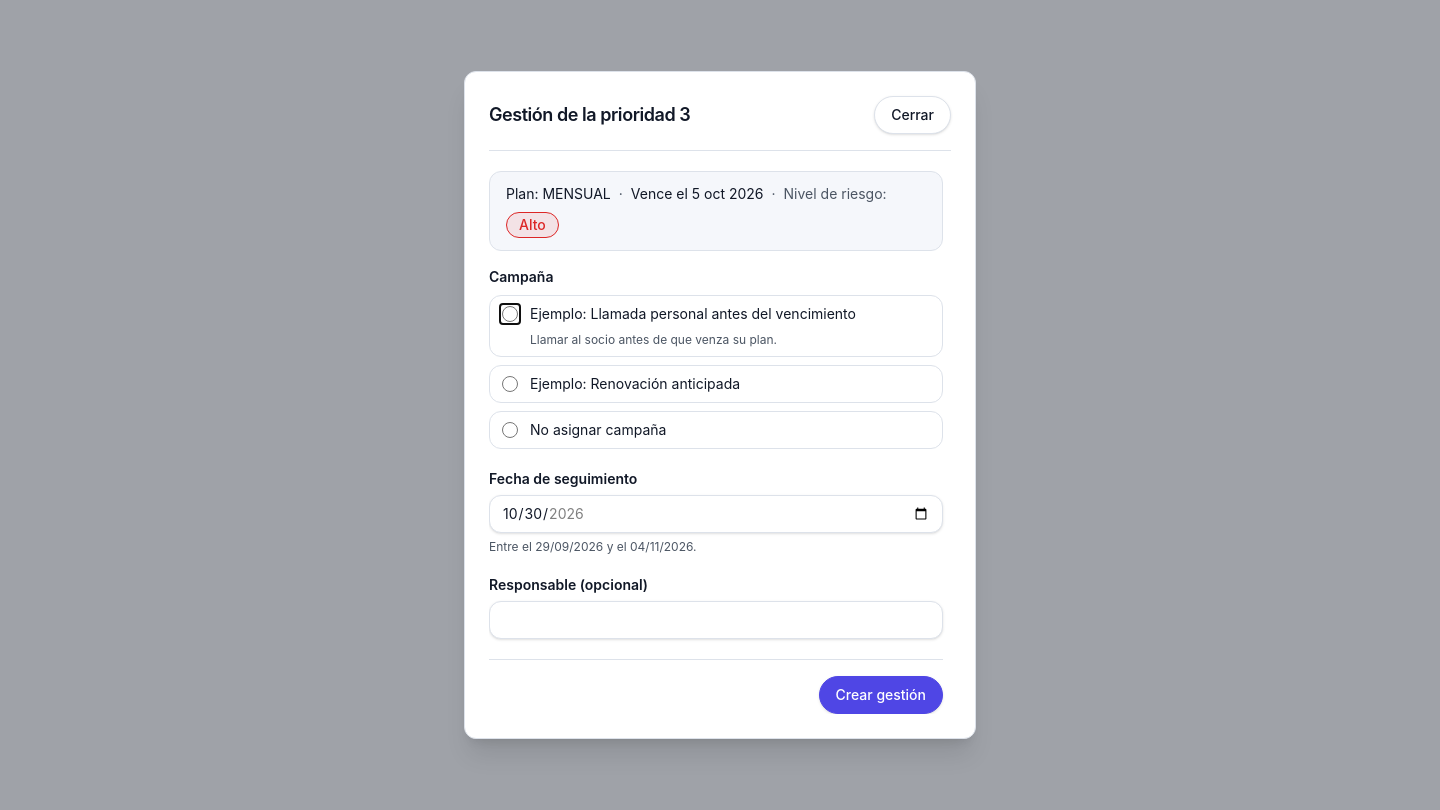
Scenario: FormularioGestion › parte 1: crear la gestion › fecha 2026-11-05 → mensaje con el rango, enlazado al campo, sin enviar
The image size is (1440, 810).
Note: Con campaña: sin campaña el campo de fecha no existe (R-010).
Click the radio button labelled "Ejemplo: Renovación anticipada". click: x=510, y=384
box: left=502, top=376, right=518, bottom=392
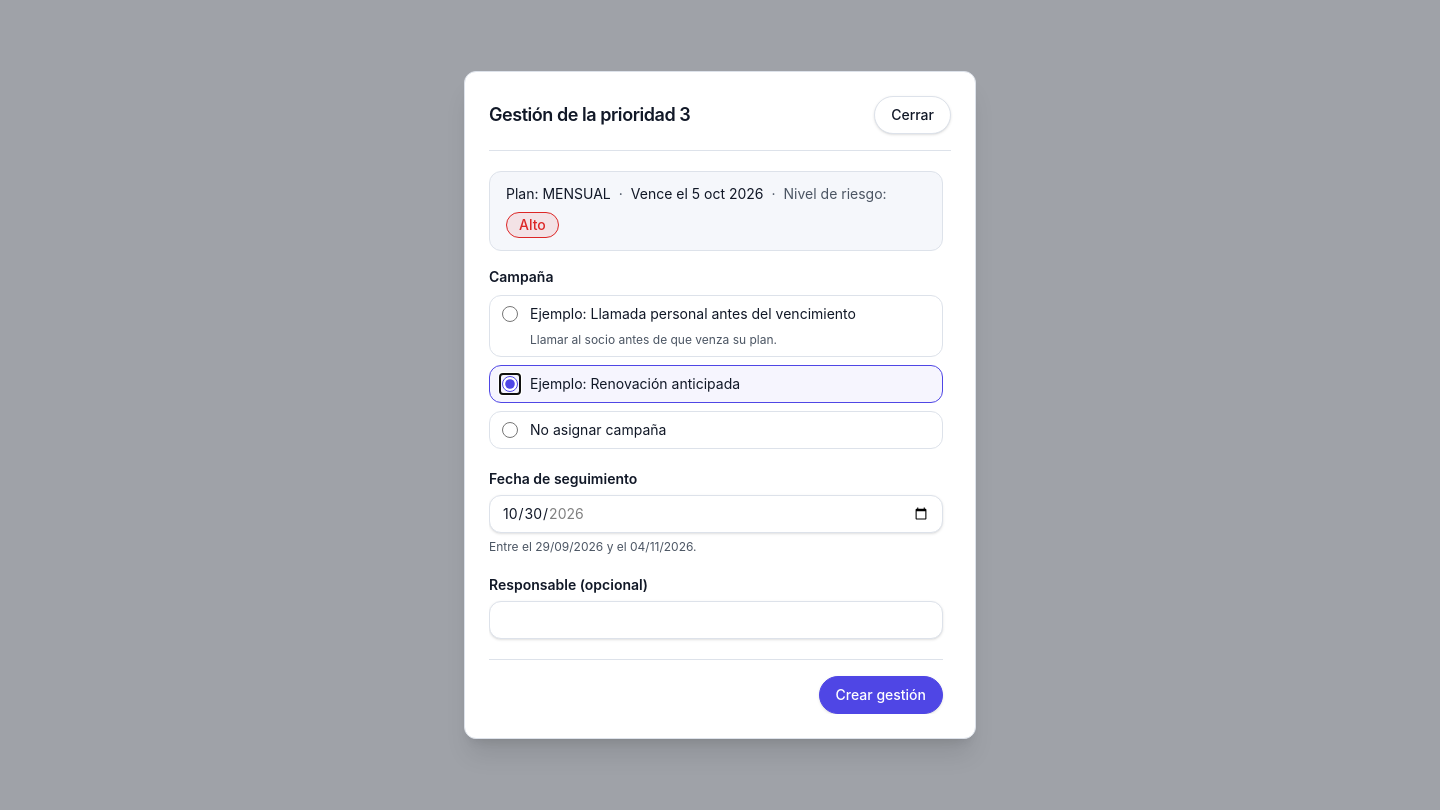
Type "2026-11-05" into the date field labelled "Fecha de seguimiento". click: x=716, y=514
box: left=489, top=495, right=943, bottom=533
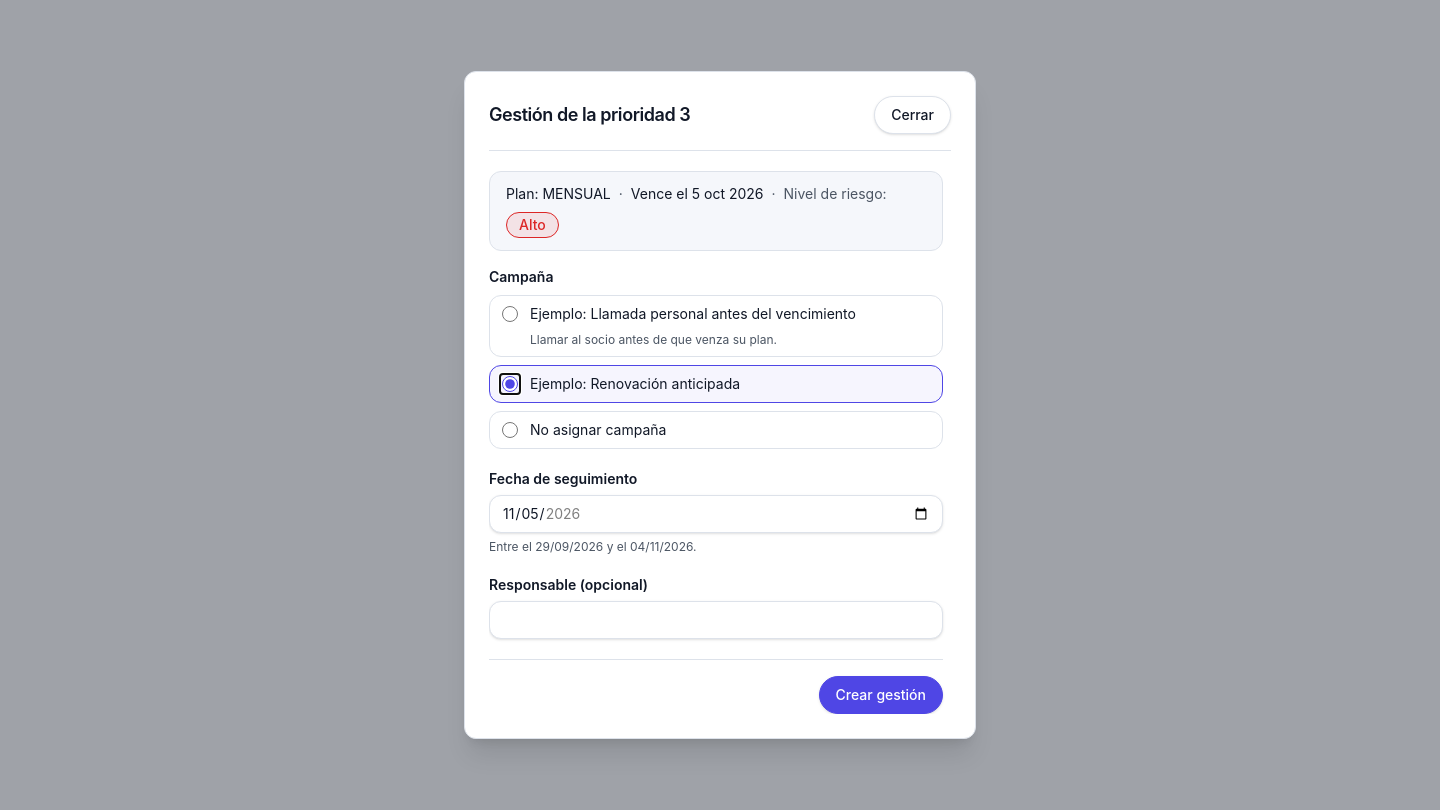
Click the button "Crear gestión". click: x=881, y=695
box: left=818, top=676, right=943, bottom=714
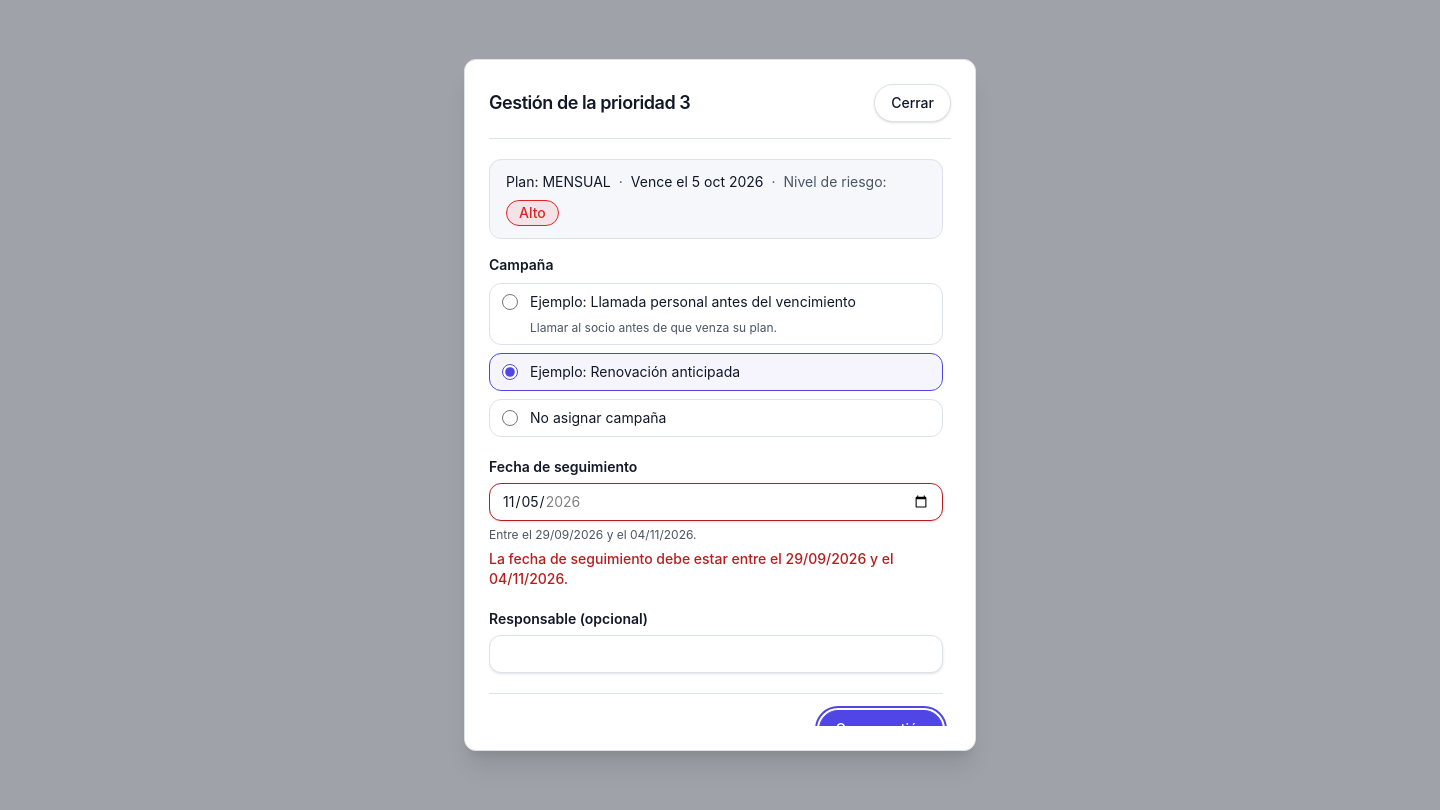
Now the text "La fecha de seguimiento debe estar entre el 29/09/2026 y el 04/11/2026." is shown, box left=489, top=549, right=943, bottom=589
